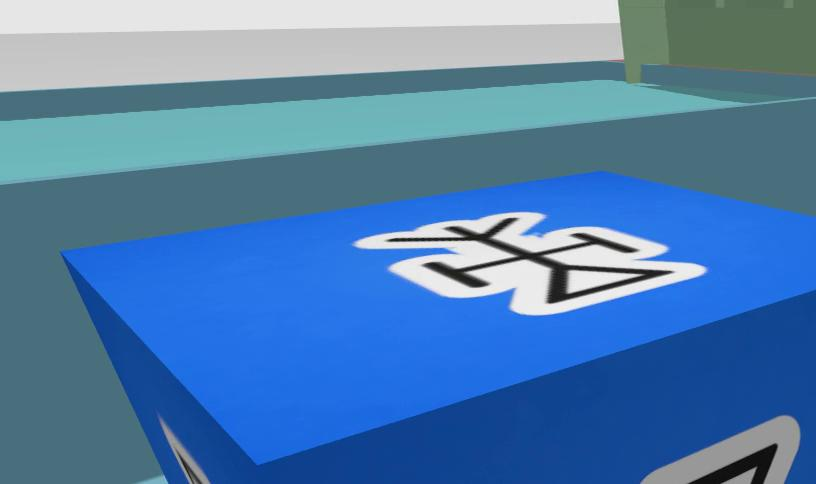KFS_REAL: (59, 172, 816, 484), (356, 212, 705, 315), (640, 416, 799, 484)
